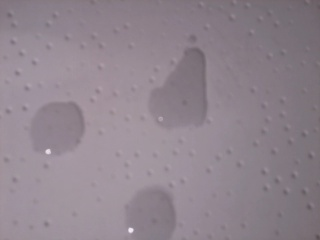Water_detected: (152, 41, 214, 135), (24, 101, 89, 161), (122, 181, 178, 240)
